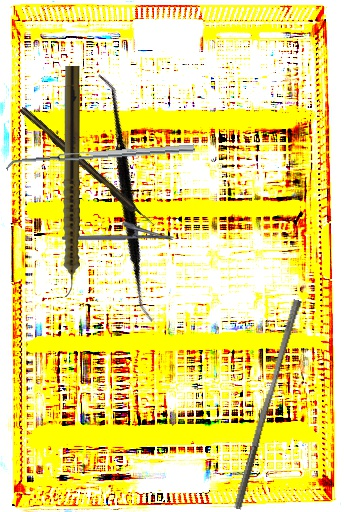Handpiece: (60, 66, 80, 297)
Hook Surgical: (18, 104, 157, 231)
Needle Holder: (62, 221, 174, 241)
Pusher: (233, 297, 302, 512)
Spatula Surgical: (4, 72, 247, 324), (5, 144, 196, 173)
